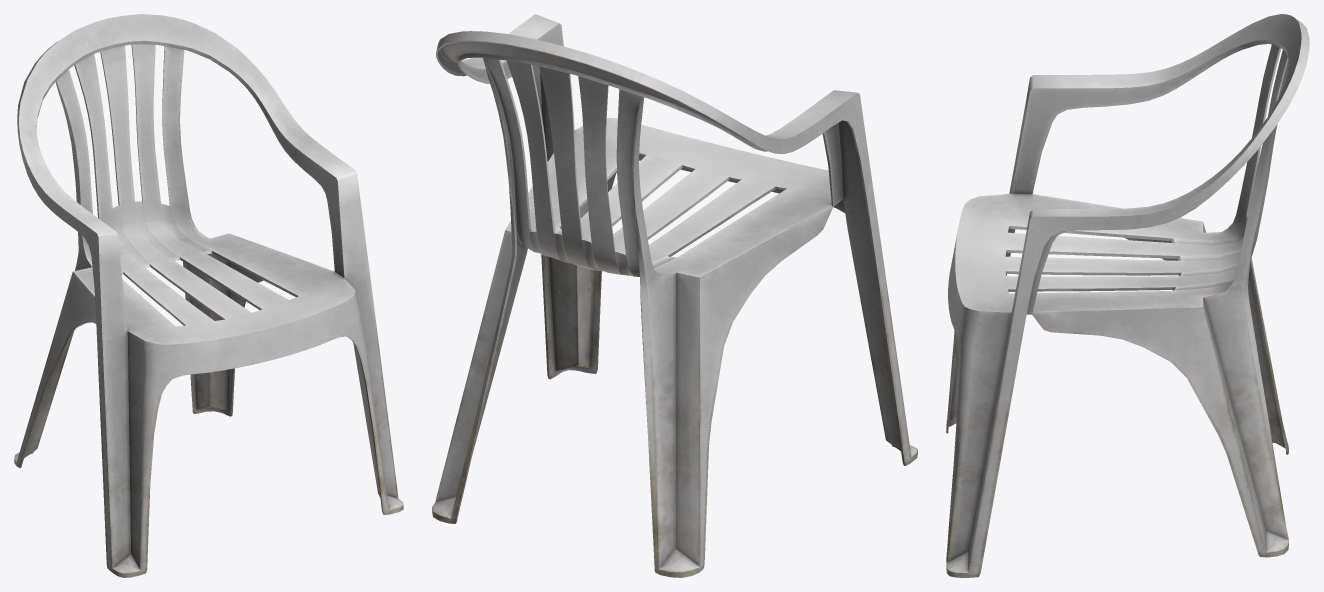
The model's file is plastic_monobloc_chair_01_4k-transformed.glb.
The picture shows the model from 3 angles, left to right: view 1: azimuth 30°, elevation 25°; view 2: azimuth 150°, elevation 25°; view 3: azimuth 270°, elevation 25°; orthographic projection. The views are drawn at different scales.
Visible parts, largest first — view 1: plastic_monobloc_chair_01; view 2: plastic_monobloc_chair_01; view 3: plastic_monobloc_chair_01.
Boxes of the visible parts, box(x1,y1,x2,y2) form: plastic_monobloc_chair_01: box(14, 14, 403, 577); plastic_monobloc_chair_01: box(432, 14, 917, 577); plastic_monobloc_chair_01: box(946, 14, 1309, 577).
Bounding box in the file's own units: 0.6419 × 0.8798 × 0.6276.
1 material, 1 textured.
